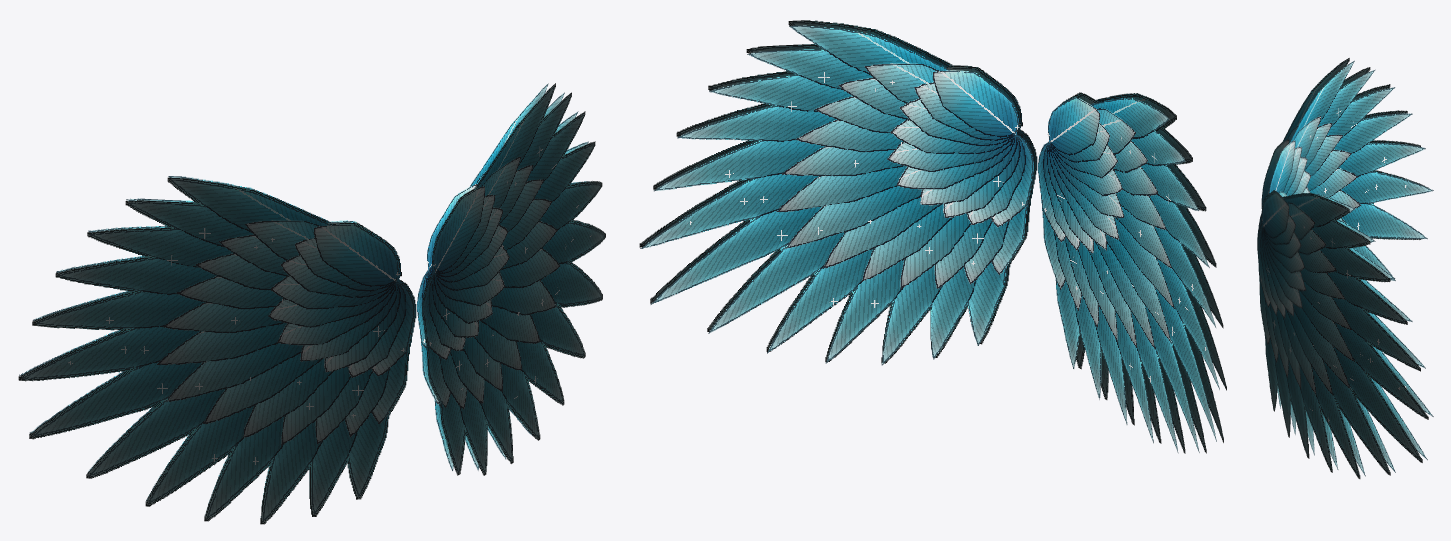
Rendered from frostfeather_wings.glb.
3 views of the same model, side by side, from view 1: azimuth 30°, elevation 25°; view 2: azimuth 150°, elevation 25°; view 3: azimuth 270°, elevation 25° (orthographic). The views are drawn at different scales.
Parts seen in each view (by area): view 1: Frostfeather Wings Wing Right, Frostfeather Wings Wing Left; view 2: Frostfeather Wings Wing Left, Frostfeather Wings Wing Right; view 3: Frostfeather Wings Wing Left, Frostfeather Wings Wing Right.
Boxes of the visible parts, <box> form: Frostfeather Wings Wing Right: <box>18,176,416,524</box>; Frostfeather Wings Wing Left: <box>417,83,605,475</box>; Frostfeather Wings Wing Left: <box>639,20,1037,365</box>; Frostfeather Wings Wing Right: <box>1038,92,1226,453</box>; Frostfeather Wings Wing Left: <box>1257,190,1433,478</box>; Frostfeather Wings Wing Right: <box>1257,58,1433,281</box>.
Bounding box in the file's own units: 1.97 × 1.12 × 0.6499.
2 materials, 2 textured.
